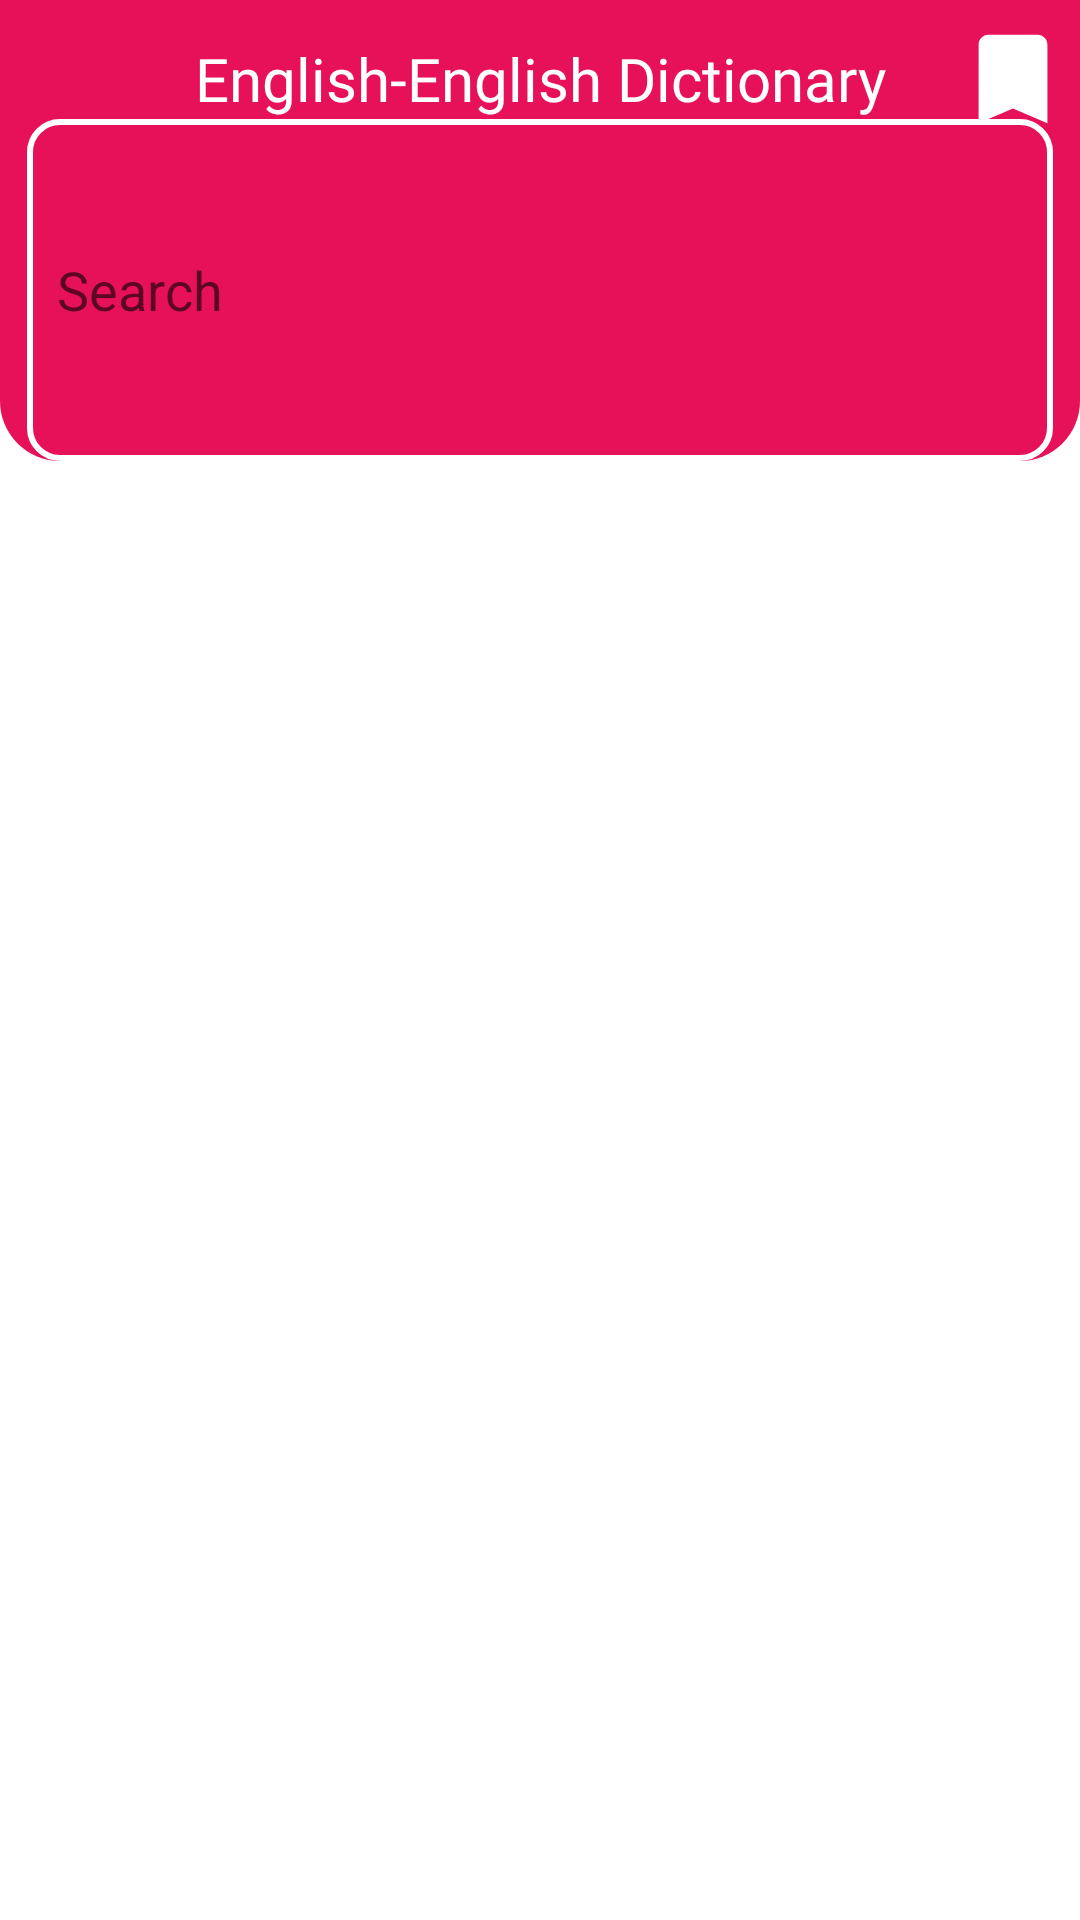

Icon bounding boxes for this 1080 × 1920 phone screenshot, format BBox(x1, y1, x2, y2):
bookmark: BBox(954, 34, 1050, 138)
